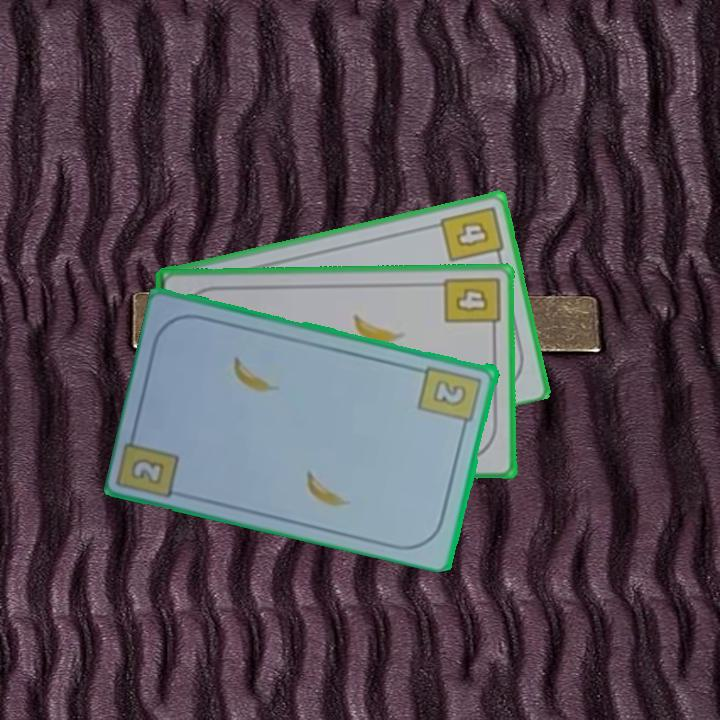2b: (415, 362, 485, 433), (127, 454, 168, 488)
4b: (437, 202, 506, 264), (441, 273, 502, 337)
